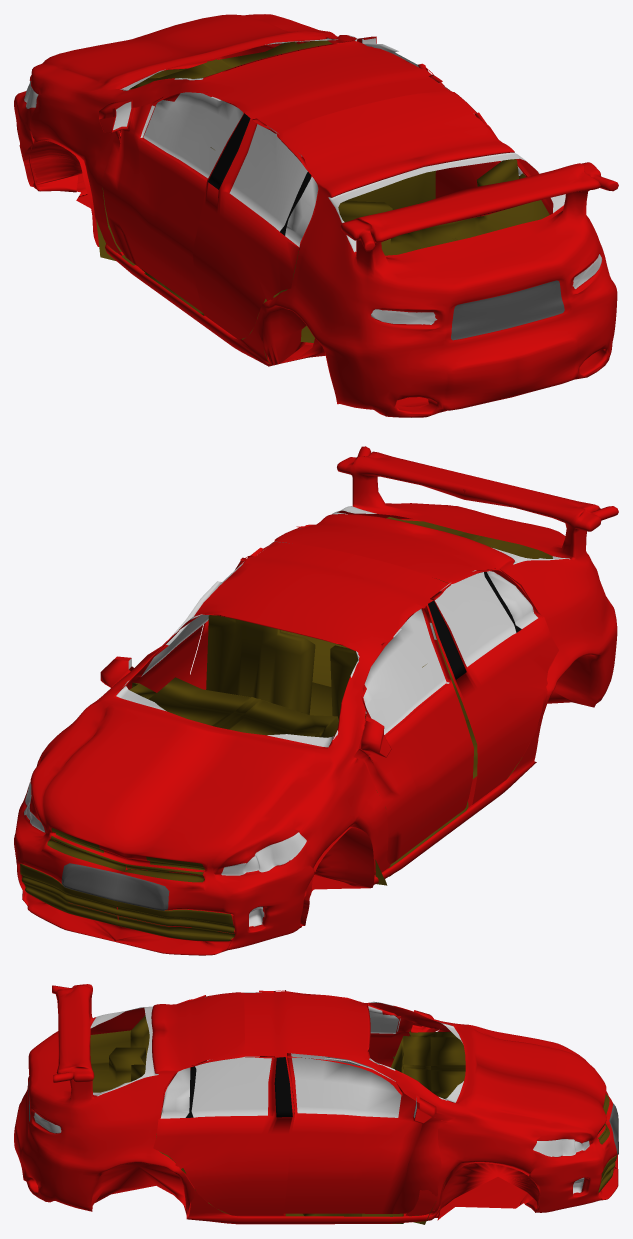
The model's file is vehicule.obj.
3 views of the same model, one above another, from view 1: azimuth 30°, elevation 25°; view 2: azimuth 150°, elevation 25°; view 3: azimuth 270°, elevation 25° (orthographic). The views are drawn at different scales.
Parts seen in each view (by area): view 1: Cube, Cube.002, Cube.004, Cube.005, Cube.003; view 2: Cube, Cube.004, Cube.005, Cube.002, Cube.003; view 3: Cube, Cube.003, Cube.002, Cube.005, Cube.004.
Boxes of the visible parts, <box> form: Cube: <box>14,14,618,417</box>; Cube.002: <box>192,68,552,339</box>; Cube.004: <box>99,92,243,312</box>; Cube.005: <box>96,40,549,364</box>; Cube.003: <box>357,36,475,198</box>; Cube: <box>14,446,618,955</box>; Cube.004: <box>353,606,473,864</box>; Cube.005: <box>129,517,552,885</box>; Cube.002: <box>190,524,558,804</box>; Cube.003: <box>100,557,246,692</box>; Cube: <box>14,984,618,1224</box>; Cube.003: <box>284,1053,455,1213</box>; Cube.002: <box>153,990,294,1215</box>; Cube.005: <box>90,1015,465,1224</box>; Cube.004: <box>287,997,439,1089</box>.
Size of the model in its own units: 10.72 by 7.61 by 26.03.
